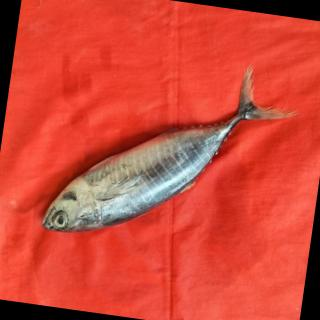Ikan: (28, 32, 313, 276)
